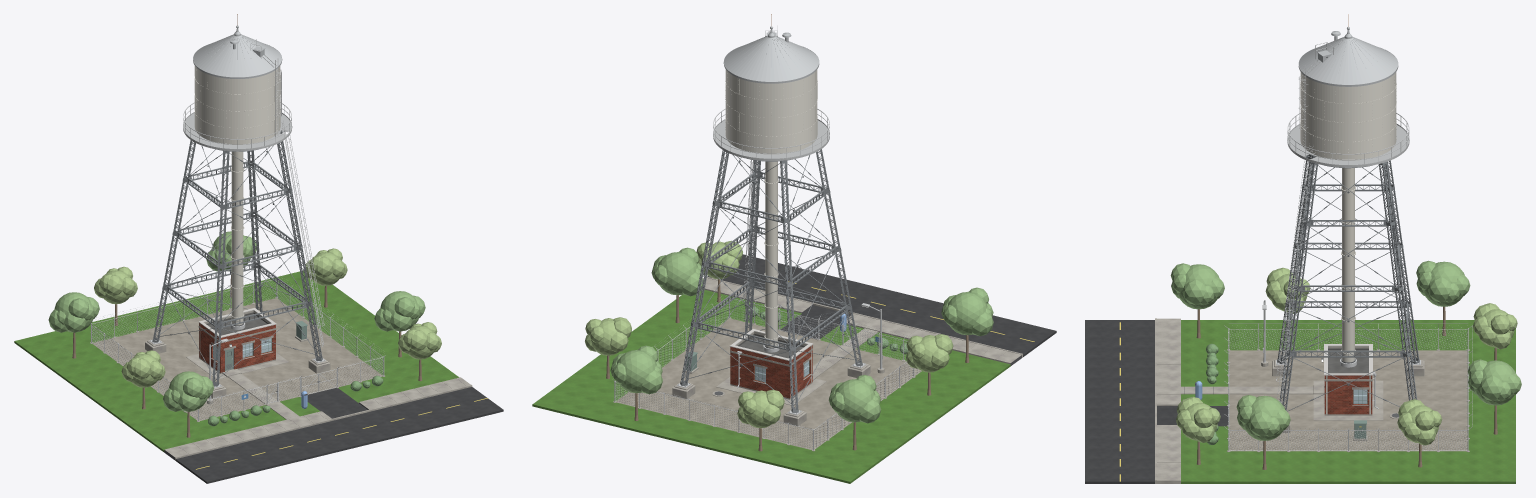
Rendered from building_assembled.glb.
3 views of the same model, side by side, from view 1: azimuth 30°, elevation 25°; view 2: azimuth 150°, elevation 25°; view 3: azimuth 270°, elevation 25° (orthographic). The views are drawn at different scales.
Visible parts, largest first — view 1: geometry_322, geometry_324, geometry_320, geometry_321, geometry_180, geometry_169, geometry_340, geometry_352, geometry_346, geometry_172, geometry_173, geometry_171 (+16 smaller); view 2: geometry_322, geometry_320, geometry_324, geometry_321, geometry_180, geometry_169, geometry_340, geometry_350, geometry_352, geometry_346, geometry_172, geometry_173 (+17 smaller); view 3: geometry_322, geometry_320, geometry_324, geometry_321, geometry_180, geometry_169, geometry_352, geometry_173, geometry_340, geometry_350, geometry_346, geometry_172 (+21 smaller).
Boxes of the visible parts, x1=… form: geometry_322: x1=14, y1=270, x2=459, y2=452; geometry_324: x1=175, y1=387, x2=503, y2=483; geometry_320: x1=92, y1=298, x2=382, y2=420; geometry_321: x1=164, y1=352, x2=472, y2=460; geometry_180: x1=193, y1=25, x2=282, y2=78; geometry_169: x1=231, y1=151, x2=244, y2=325; geometry_340: x1=48, y1=292, x2=99, y2=332; geometry_352: x1=163, y1=371, x2=213, y2=411; geometry_346: x1=374, y1=291, x2=425, y2=331; geometry_172: x1=194, y1=93, x2=280, y2=127; geometry_173: x1=194, y1=75, x2=280, y2=111; geometry_171: x1=194, y1=109, x2=280, y2=144; geometry_322: x1=532, y1=290, x2=1010, y2=483; geometry_320: x1=616, y1=318, x2=921, y2=449; geometry_324: x1=707, y1=254, x2=1056, y2=356; geometry_321: x1=703, y1=277, x2=1022, y2=405; geometry_180: x1=723, y1=26, x2=819, y2=83; geometry_169: x1=764, y1=161, x2=778, y2=347; geometry_340: x1=828, y1=374, x2=881, y2=423; geometry_350: x1=610, y1=345, x2=662, y2=394; geometry_352: x1=941, y1=287, x2=993, y2=336; geometry_346: x1=651, y1=247, x2=703, y2=296; geometry_172: x1=725, y1=99, x2=817, y2=136; geometry_173: x1=725, y1=80, x2=817, y2=117; geometry_322: x1=1181, y1=320, x2=1515, y2=483; geometry_320: x1=1229, y1=350, x2=1467, y2=451; geometry_324: x1=1085, y1=320, x2=1228, y2=483; geometry_321: x1=1155, y1=318, x2=1383, y2=483; geometry_180: x1=1298, y1=27, x2=1398, y2=86; geometry_169: x1=1341, y1=168, x2=1355, y2=362; geometry_352: x1=1170, y1=263, x2=1224, y2=309; geometry_173: x1=1300, y1=82, x2=1396, y2=122; geometry_340: x1=1416, y1=260, x2=1470, y2=306; geometry_350: x1=1467, y1=359, x2=1521, y2=405; geometry_346: x1=1236, y1=395, x2=1290, y2=440; geometry_172: x1=1300, y1=102, x2=1396, y2=141.
Size of the model in its own units: 32 by 35.85 by 36.49.
Materials: 39 (9 with a texture image).
